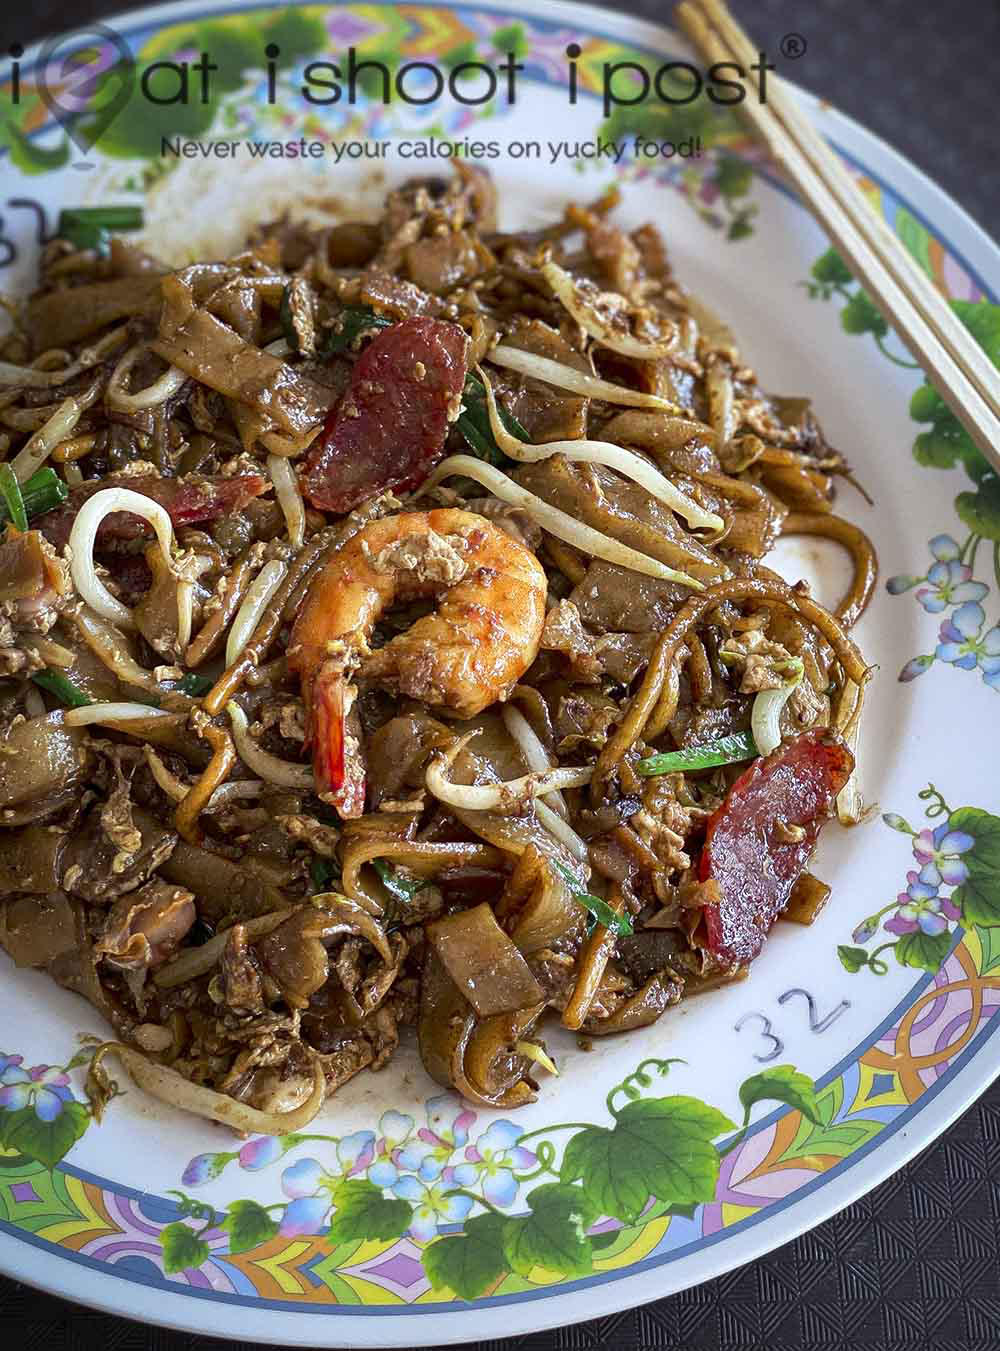Char Kway Teow: (43, 198, 842, 1041)
